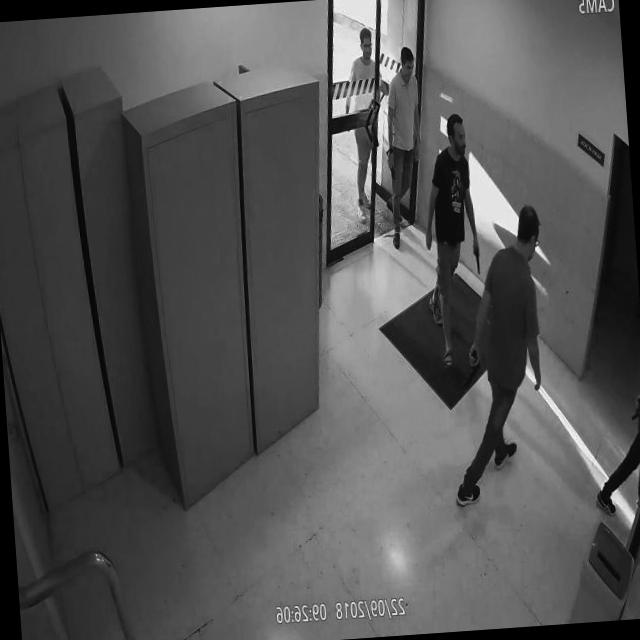gun: (464, 341, 486, 391), (468, 240, 483, 282)
person: (372, 40, 432, 252), (337, 23, 390, 226)
person with a gun: (434, 202, 566, 515), (414, 104, 489, 364)
